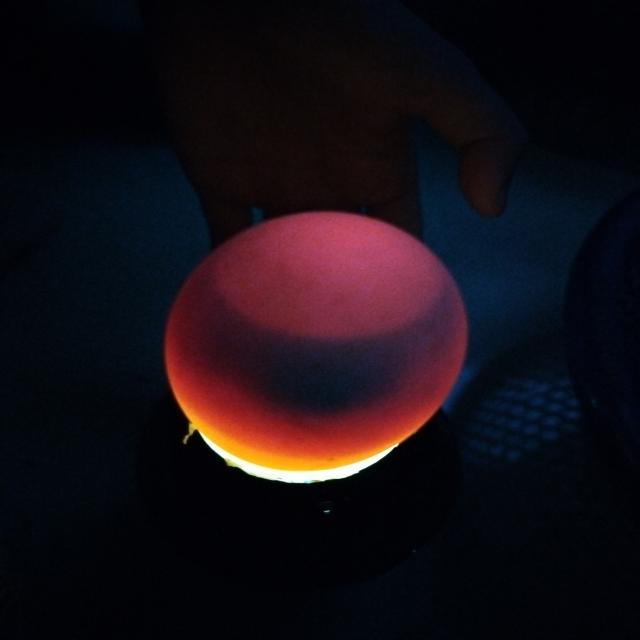Area Infectada: (177, 253, 463, 428)
